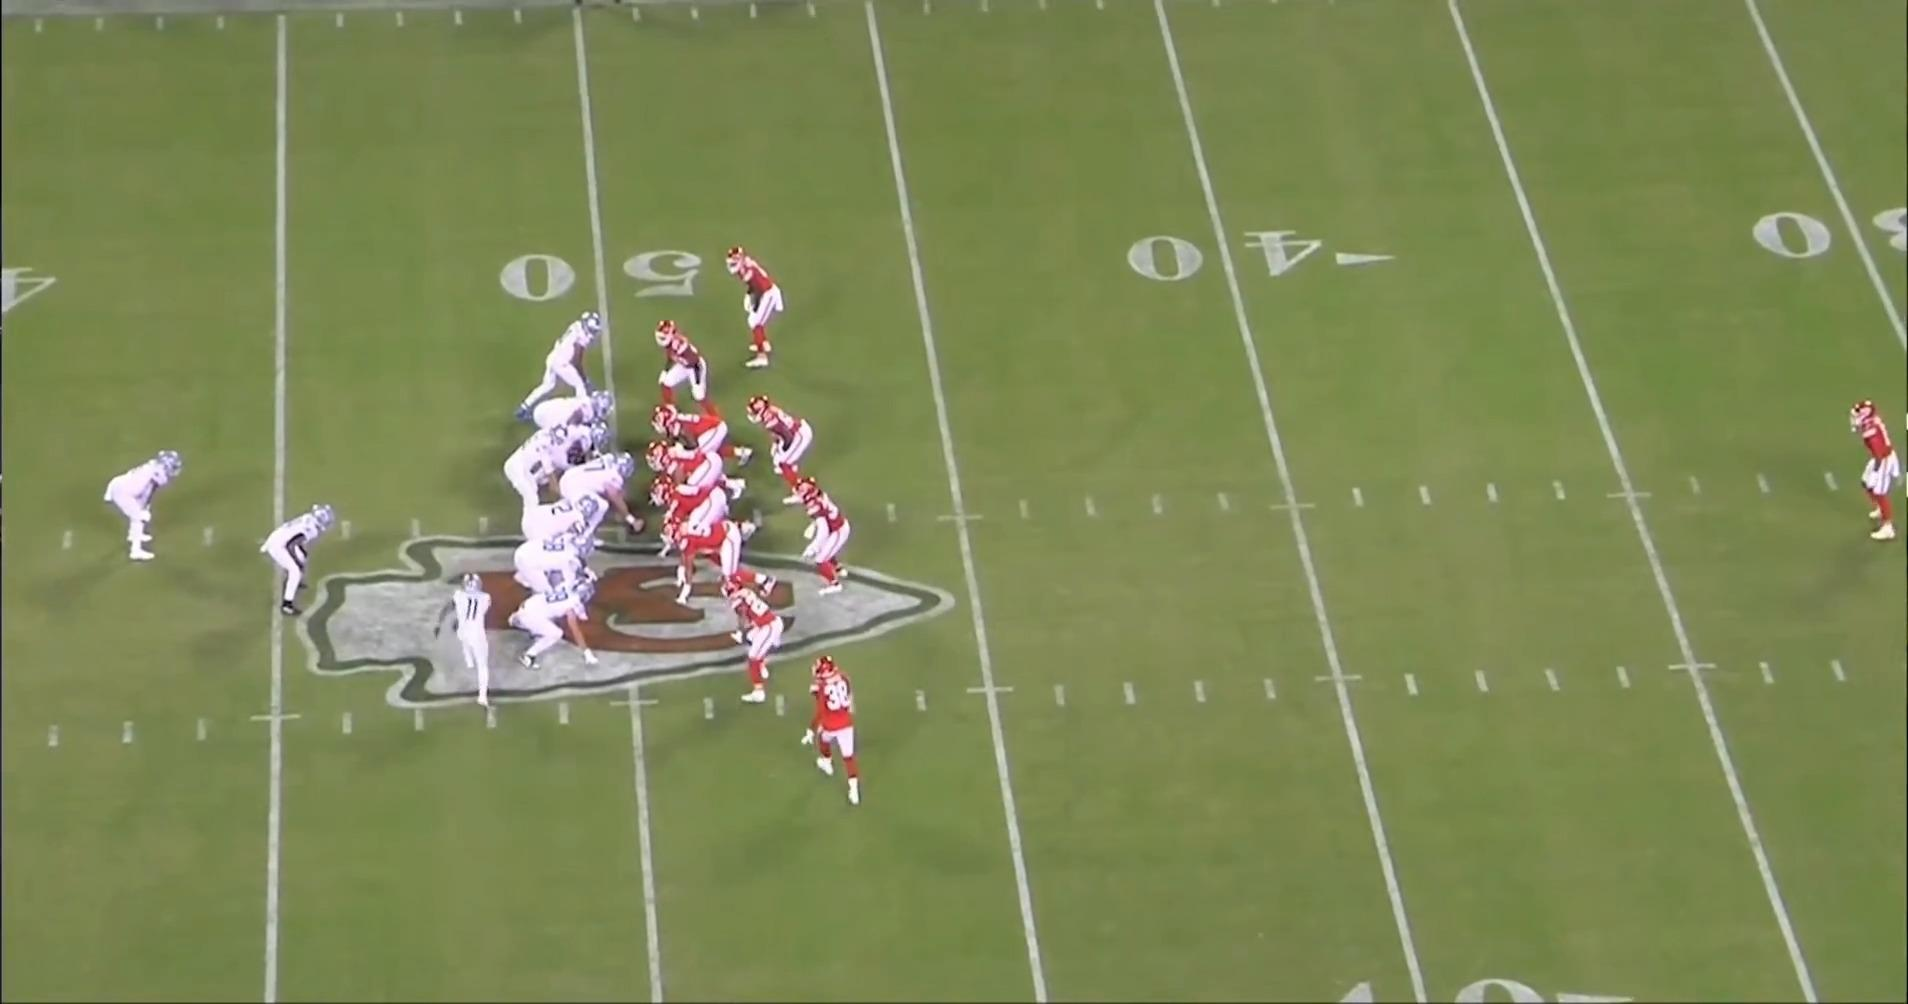player: (386, 562, 503, 725), (659, 509, 779, 609), (800, 651, 871, 809), (107, 447, 196, 573), (516, 306, 611, 420), (516, 569, 607, 678), (648, 474, 763, 560), (264, 499, 345, 621), (508, 531, 598, 636), (547, 456, 641, 555), (739, 398, 813, 513), (1851, 398, 1908, 547), (728, 241, 791, 373), (718, 574, 779, 708), (788, 475, 854, 594), (498, 419, 566, 528), (659, 319, 725, 419), (649, 443, 743, 509), (654, 409, 750, 471), (517, 494, 602, 561), (530, 391, 614, 441), (540, 421, 614, 468)
